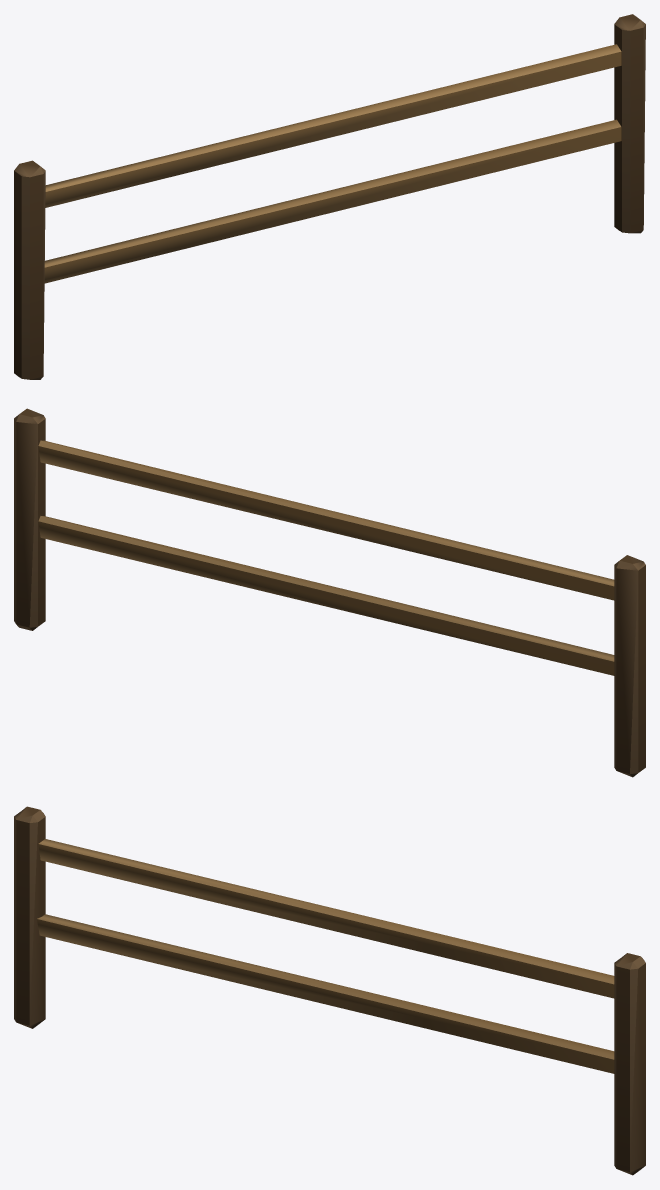
File: fence-v1.lod1.glb
The picture shows the model from 3 angles, top to bottom: view 1: azimuth 30°, elevation 25°; view 2: azimuth 150°, elevation 25°; view 3: azimuth 330°, elevation 25°; orthographic projection.
Visible parts, largest first — view 1: fence-v1.lod1; view 2: fence-v1.lod1; view 3: fence-v1.lod1.
Boxes of the visible parts, x1,y1,x2,y2 form: fence-v1.lod1: (14,14,645,379); fence-v1.lod1: (14,408,645,777); fence-v1.lod1: (14,806,645,1175).
Size of the model in its own units: 4.16 by 1.36 by 0.16.
